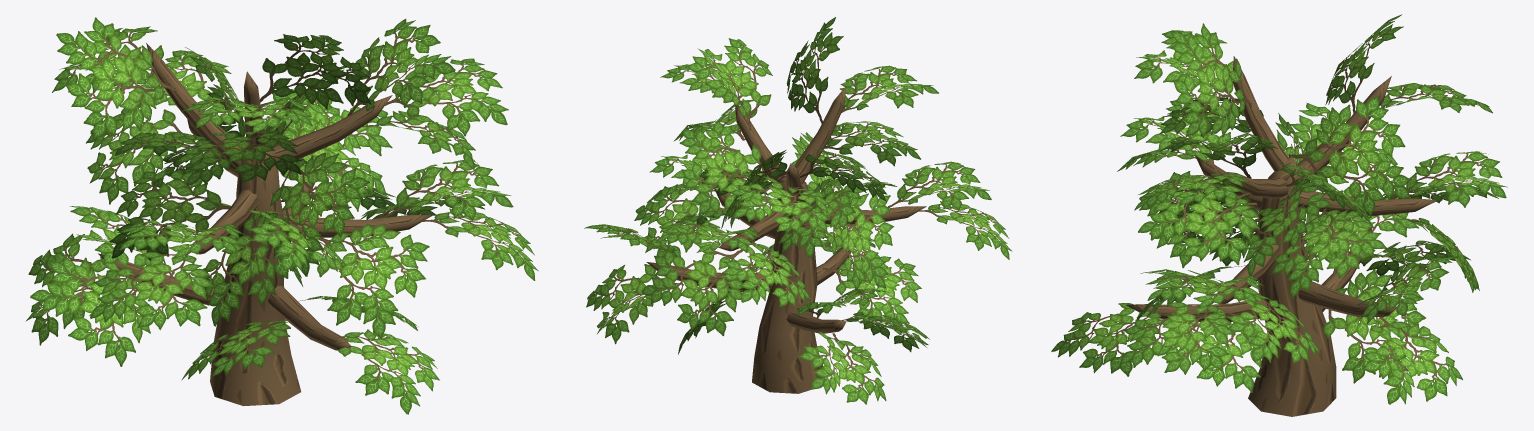
Rendered from Ctn_Tree_02_v01.FBX.
3 renders of one model, left to right at view 1: azimuth 30°, elevation 25°; view 2: azimuth 150°, elevation 25°; view 3: azimuth 270°, elevation 25°, orthographic. The views are drawn at different scales.
Parts seen in each view (by area): view 1: Ctn_Tree_02_v01; view 2: Ctn_Tree_02_v01; view 3: Ctn_Tree_02_v01.
Part boxes in pixels (bbox=[...]): Ctn_Tree_02_v01: bbox=[25, 17, 538, 414]; Ctn_Tree_02_v01: bbox=[584, 17, 1012, 404]; Ctn_Tree_02_v01: bbox=[1051, 14, 1507, 416].
Size of the model in its own units: 7052 by 5995 by 6833.
